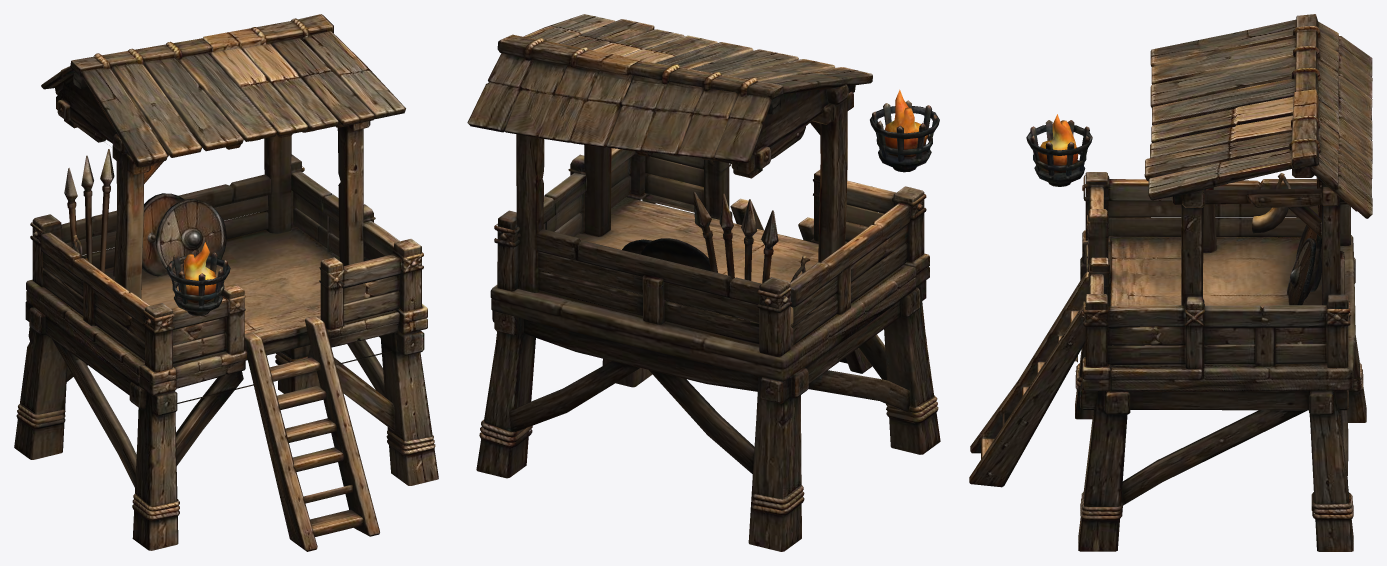
File: act1-a15-6-watch-post.glb
3 views of the same model, side by side, from view 1: azimuth 30°, elevation 25°; view 2: azimuth 150°, elevation 25°; view 3: azimuth 270°, elevation 25° (orthographic). The views are drawn at different scales.
Visible parts, largest first — view 1: act1-a15-6-watch-post; view 2: act1-a15-6-watch-post; view 3: act1-a15-6-watch-post.
Part boxes in pixels (<box>): act1-a15-6-watch-post: <box>14,14,438,551</box>; act1-a15-6-watch-post: <box>467,14,940,551</box>; act1-a15-6-watch-post: <box>969,14,1372,551</box>.
Size of the model in its own units: 3 by 3.89 by 3.47.
Materials: 1 (1 with a texture image).
